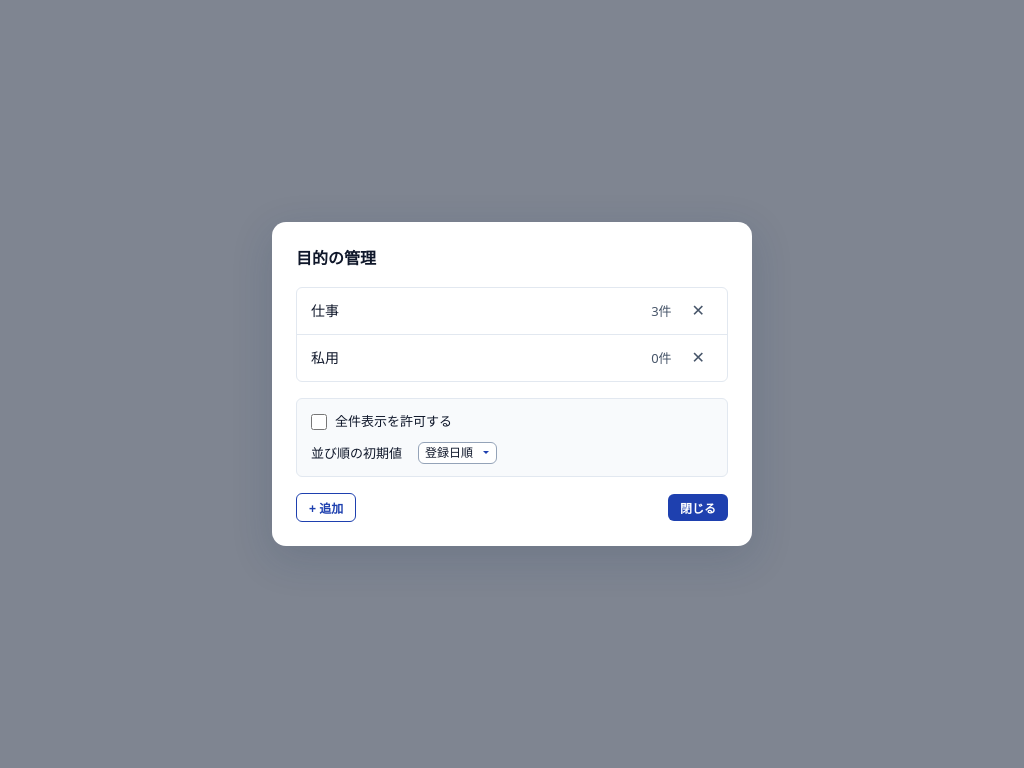
Test: CategoryDialog › enters edit mode on category name click
The image size is (1024, 768).
Click the text "仕事". click: (325,311)
box: [311, 301, 339, 320]
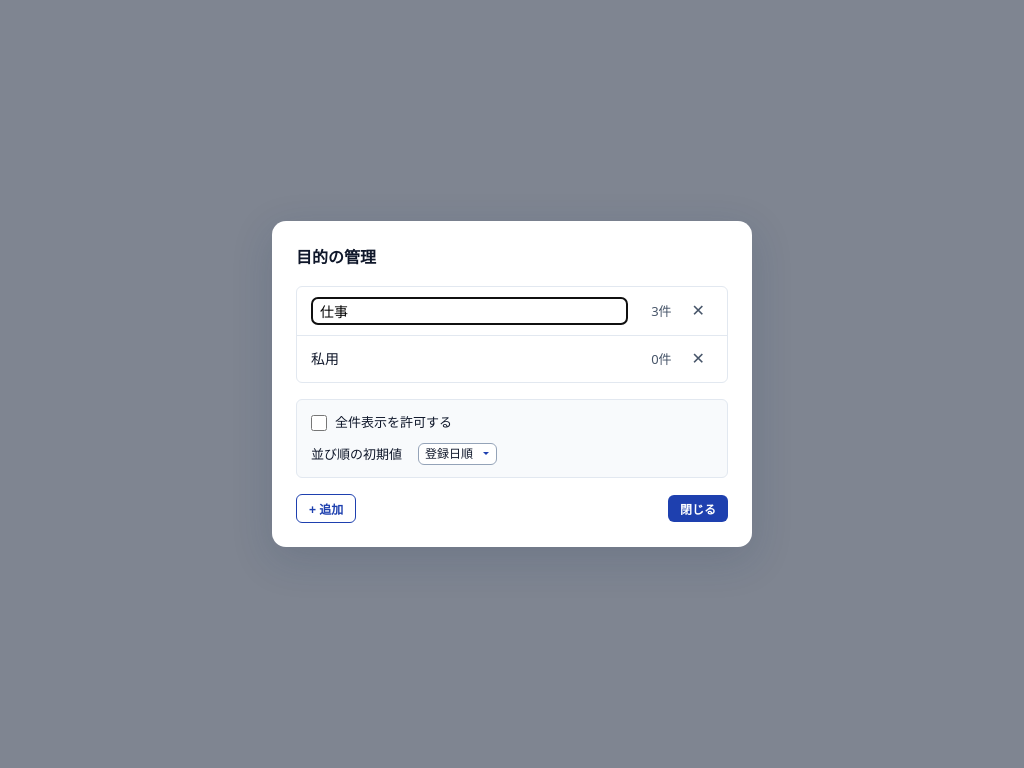
Expected: the field showing "仕事" is shown, [311, 297, 628, 325]
